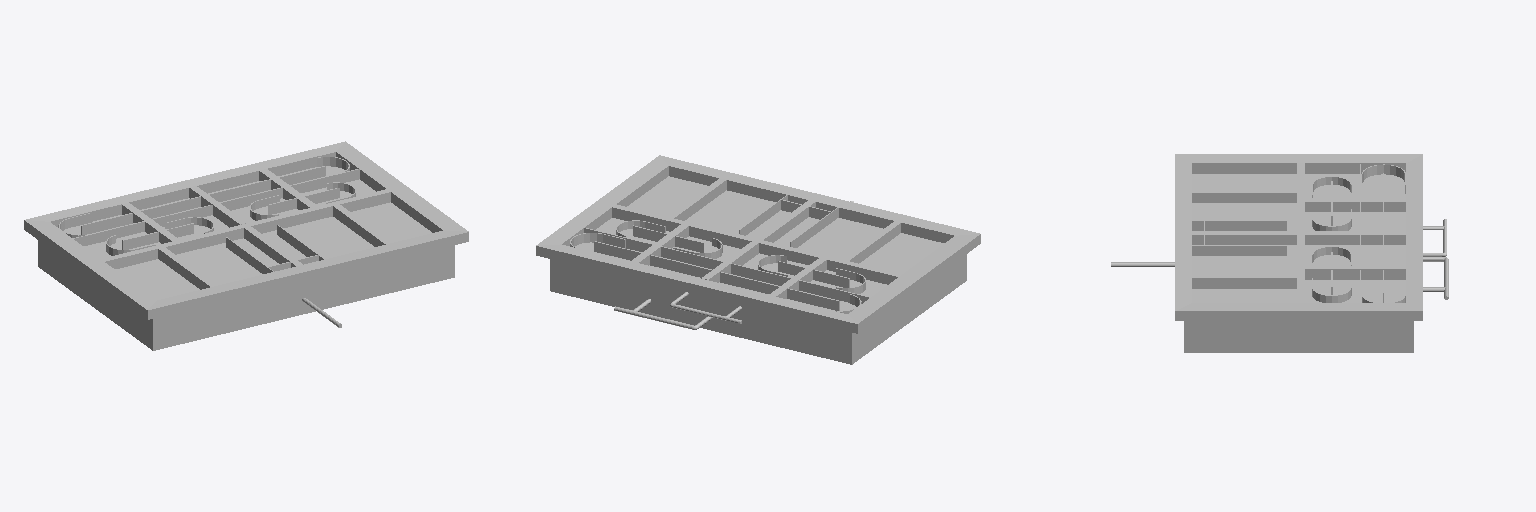
The model's file is biochemical_pool_phase_aao.obj.
The picture shows the model from 3 angles: view 1: azimuth 30°, elevation 25°; view 2: azimuth 150°, elevation 25°; view 3: azimuth 270°, elevation 25°; orthographic projection.
Parts seen in each view (by area): view 1: ___.1, ___.2, ___.5, ___.6, ___.7, ___.8; view 2: ___.1, ___.2, ___.6, ___.5, ___.8, __.7, ___.7, __, __.4; view 3: ___.1, ___.2, ___, ___.3, __.2, __, __.1.
Boxes of the visible parts, x1=… form: ___.1: x1=24, y1=141, x2=468, y2=350; ___.2: x1=64, y1=166, x2=431, y2=299; ___.5: x1=73, y1=169, x2=359, y2=245; ___.6: x1=81, y1=166, x2=325, y2=234; ___.7: x1=268, y1=188, x2=339, y2=214; ___.8: x1=122, y1=223, x2=193, y2=249; ___.1: x1=536, y1=155, x2=980, y2=364; ___.2: x1=575, y1=176, x2=944, y2=310; ___.6: x1=594, y1=241, x2=839, y2=310; ___.5: x1=584, y1=228, x2=870, y2=303; ___.8: x1=778, y1=261, x2=849, y2=287; __.7: x1=614, y1=304, x2=741, y2=328; ___.7: x1=633, y1=225, x2=703, y2=252; __: x1=616, y1=220, x2=712, y2=329; __.4: x1=570, y1=233, x2=625, y2=248; ___.1: x1=1175, y1=154, x2=1422, y2=352; ___.2: x1=1192, y1=174, x2=1405, y2=302; ___: x1=1192, y1=245, x2=1286, y2=255; ___.3: x1=1192, y1=220, x2=1286, y2=230; __.2: x1=1111, y1=176, x2=1351, y2=266; __: x1=1312, y1=252, x2=1448, y2=302; __.1: x1=1312, y1=226, x2=1445, y2=291.
Size of the model in its own units: 7505 by 1033 by 6823.